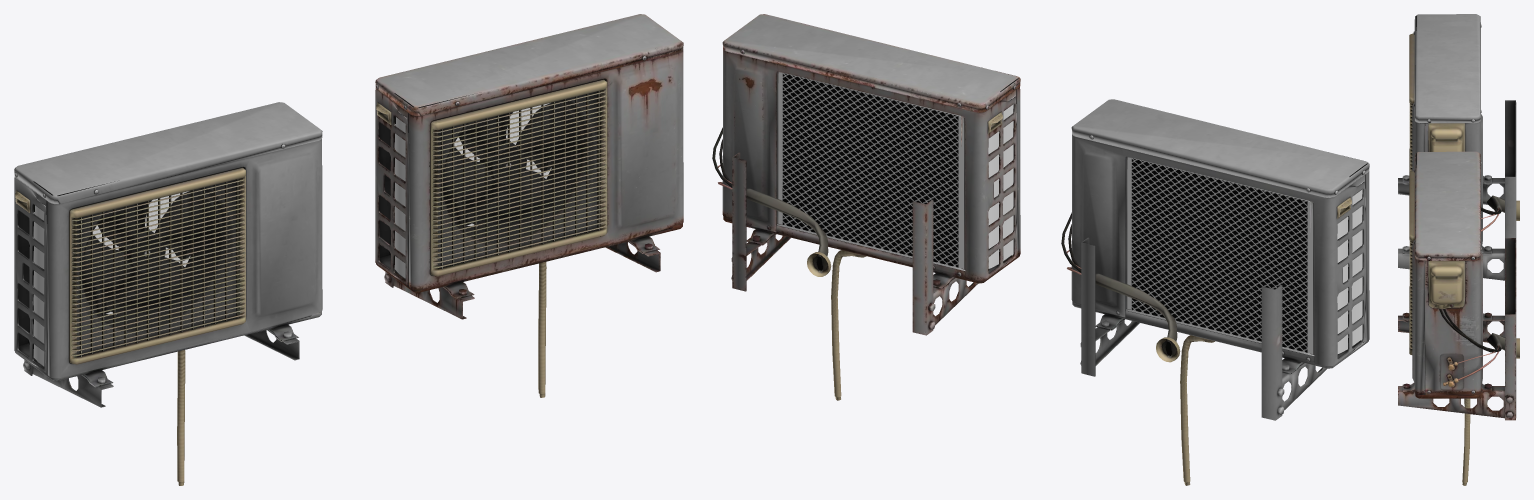
Rendered from exterior_aircon_unit_1k.medium.glb.
3 renders of one model, left to right at view 1: azimuth 30°, elevation 25°; view 2: azimuth 150°, elevation 25°; view 3: azimuth 270°, elevation 25°, orthographic. The views are drawn at different scales.
Parts seen in each view (by area): view 1: exterior_aircon_unit_rusted, exterior_aircon_unit; view 2: exterior_aircon_unit, exterior_aircon_unit_rusted; view 3: exterior_aircon_unit_rusted, exterior_aircon_unit.
Boxes of the visible parts, x1,y1,x2,y2 form: exterior_aircon_unit_rusted: (375, 14, 683, 397); exterior_aircon_unit: (14, 102, 322, 485); exterior_aircon_unit: (1061, 99, 1369, 485); exterior_aircon_unit_rusted: (712, 14, 1020, 400); exterior_aircon_unit_rusted: (1398, 151, 1519, 485); exterior_aircon_unit: (1398, 14, 1519, 280).
Size of the model in its own units: 1.8 by 0.9279 by 0.3742.
Materials: 4 (4 with a texture image).
